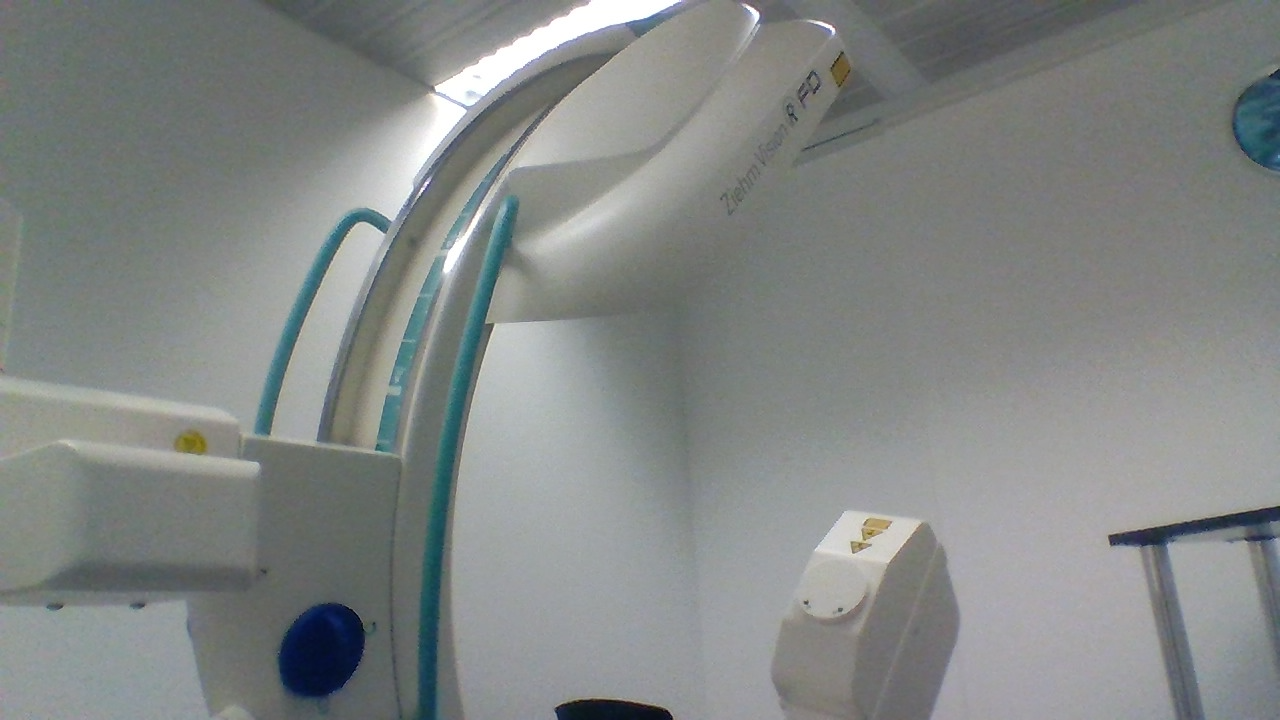carmDOWN: (767, 508, 940, 717)
carmLOCK: (275, 599, 367, 699)
carmUP: (452, 14, 854, 326)
